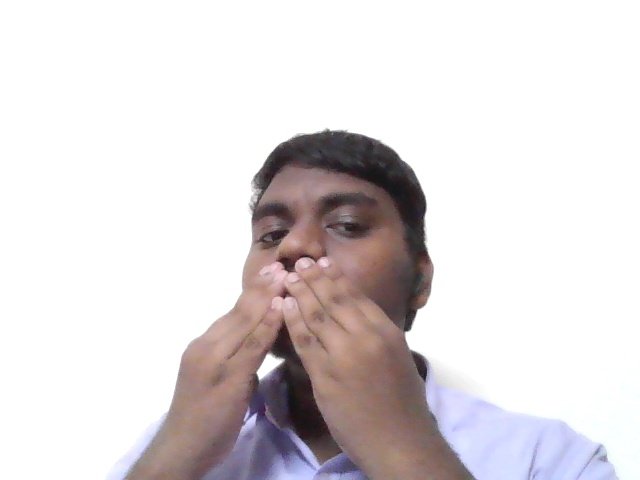Thank you: (128, 255, 438, 440)
